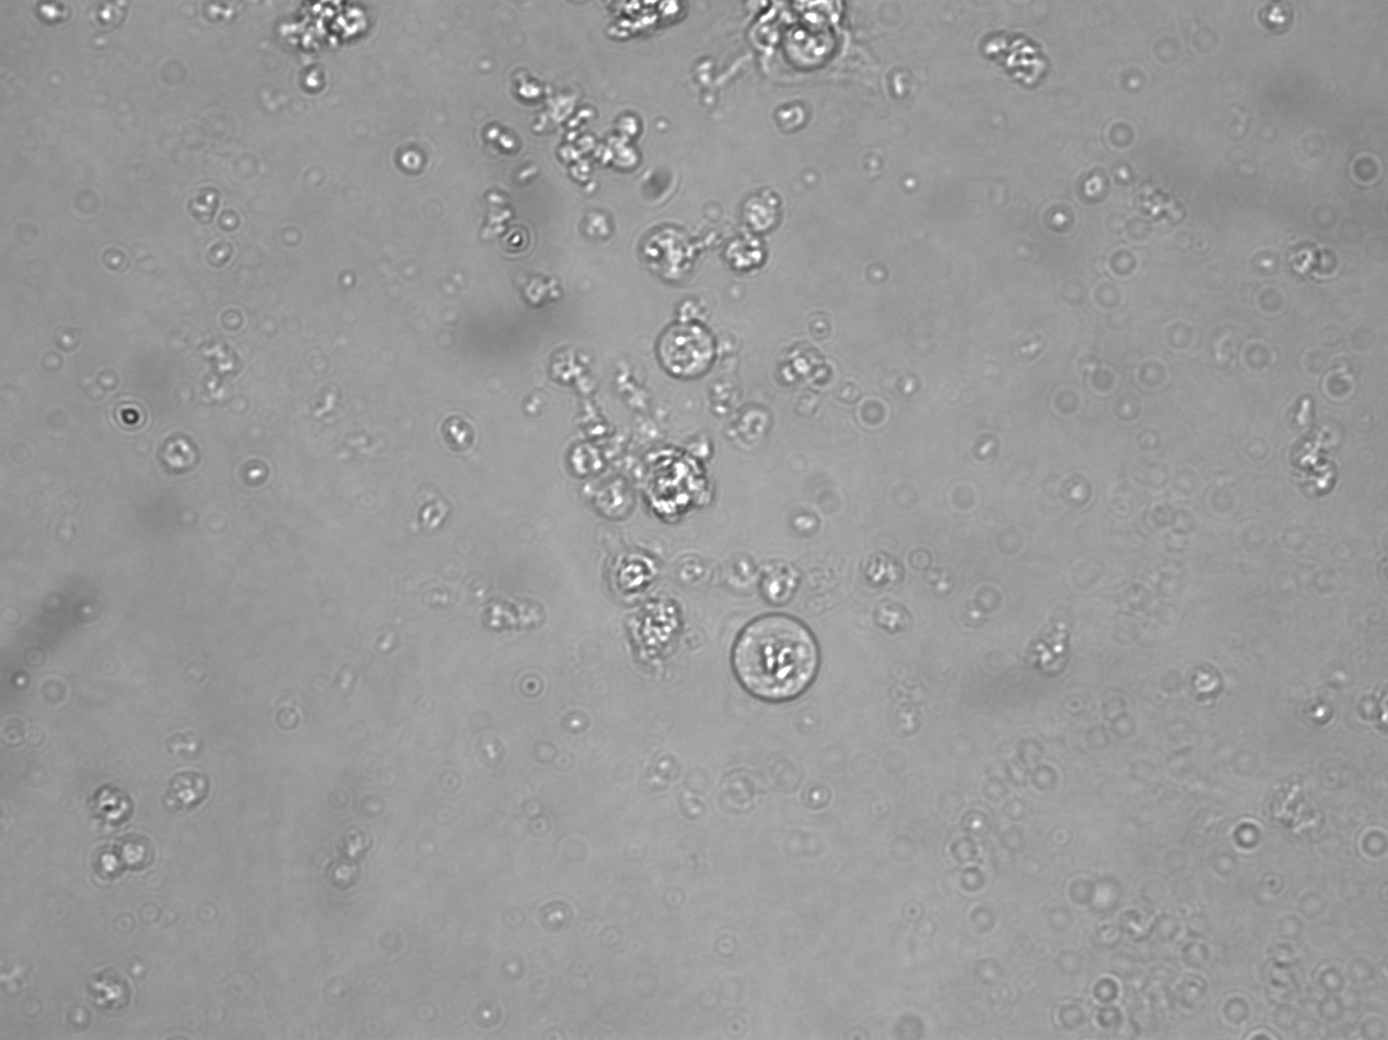ceil: (510, 73, 645, 189), (640, 186, 783, 284), (610, 549, 686, 672), (727, 611, 826, 704), (754, 1, 857, 73), (86, 781, 159, 883), (629, 446, 716, 524), (278, 1, 372, 56), (649, 315, 722, 383), (159, 729, 216, 811), (975, 31, 1053, 88), (600, 1, 695, 45)
